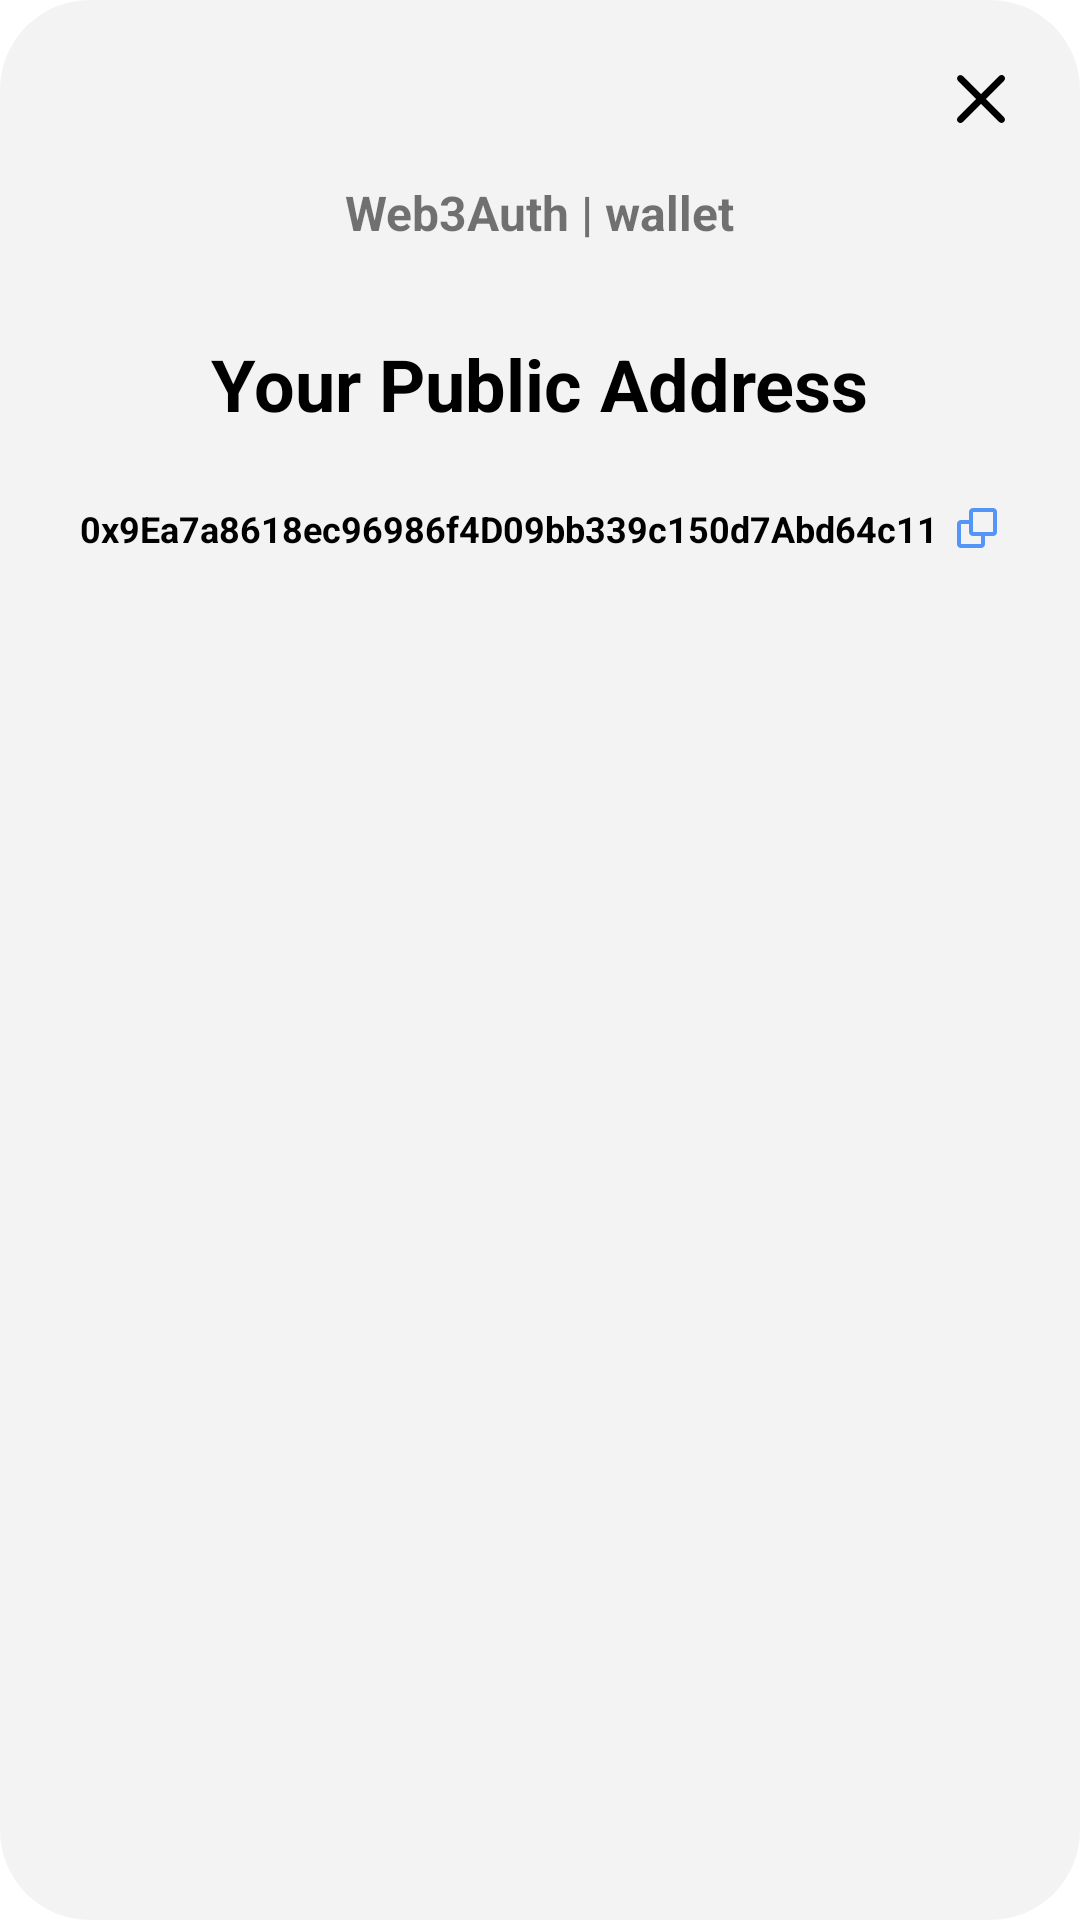

Named icons in this screenshot (1080 × 1920) and their bounding boxes, (x1, y1, x2, y2):
close: (957, 75, 1005, 123)
